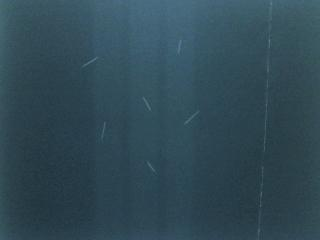crack: (255, 0, 277, 239)
scratch: (176, 104, 208, 130), (138, 88, 159, 117), (169, 36, 193, 58), (141, 157, 162, 178), (93, 120, 112, 143), (79, 55, 101, 70)
